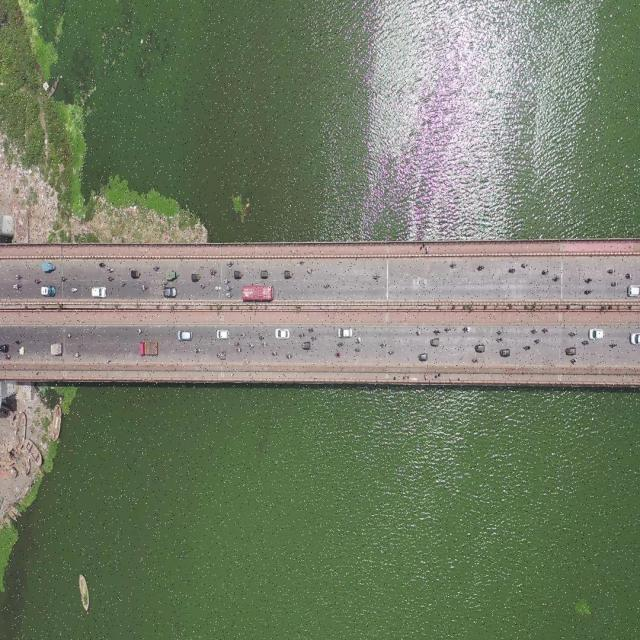3W: (49, 342, 63, 357), (131, 263, 142, 281), (498, 345, 512, 359), (190, 268, 202, 284), (232, 265, 244, 281), (259, 267, 272, 281), (564, 345, 577, 358), (281, 266, 293, 280), (474, 341, 486, 354), (429, 336, 441, 348), (417, 351, 430, 362), (302, 337, 311, 352), (216, 347, 226, 360), (19, 345, 25, 355)
Bus: (241, 284, 275, 301)
Cars: (274, 322, 290, 342), (92, 283, 109, 301), (175, 326, 194, 342), (588, 322, 604, 340), (627, 328, 640, 348), (40, 287, 58, 301), (218, 325, 232, 343), (337, 327, 353, 342), (627, 284, 640, 298), (163, 287, 178, 297)
M2W: (384, 348, 398, 361), (378, 337, 388, 353), (605, 263, 617, 276), (14, 334, 25, 348), (623, 269, 635, 281), (137, 322, 147, 336), (372, 270, 381, 285), (541, 267, 550, 282), (96, 258, 107, 270), (567, 328, 579, 339), (119, 276, 128, 290), (520, 257, 529, 271), (72, 352, 84, 362), (568, 355, 580, 365), (609, 338, 618, 351), (413, 327, 423, 338), (332, 351, 342, 362), (335, 339, 346, 349), (65, 329, 74, 341), (353, 333, 362, 345), (463, 323, 472, 335), (449, 259, 458, 271), (507, 265, 516, 277), (523, 341, 532, 353), (535, 334, 543, 347), (12, 281, 22, 291), (540, 326, 550, 336), (33, 276, 44, 285), (209, 265, 218, 276), (494, 335, 505, 344), (583, 276, 594, 285), (106, 273, 116, 282), (552, 276, 562, 285), (495, 326, 504, 336), (353, 347, 364, 355), (582, 288, 593, 296), (162, 278, 169, 290), (444, 323, 451, 335), (59, 271, 68, 280), (199, 281, 208, 290), (260, 339, 269, 348), (581, 337, 590, 346), (611, 279, 620, 288), (105, 265, 115, 273), (323, 280, 331, 290), (475, 264, 485, 272), (530, 327, 538, 337), (472, 354, 479, 365), (226, 259, 234, 268), (235, 346, 244, 354), (271, 349, 279, 358), (297, 331, 306, 339), (141, 282, 148, 292), (225, 292, 235, 299), (151, 265, 160, 272), (215, 285, 222, 294), (194, 345, 201, 354), (307, 327, 316, 334), (310, 335, 319, 342), (306, 267, 313, 276), (433, 327, 440, 336), (3, 353, 12, 360), (224, 277, 231, 285), (226, 285, 234, 292), (287, 352, 294, 360), (299, 260, 307, 267), (15, 274, 24, 280), (249, 343, 256, 350), (258, 332, 265, 339), (233, 340, 240, 346), (240, 332, 247, 338), (71, 287, 78, 293)
Truck: (138, 339, 160, 358), (41, 260, 57, 274), (166, 268, 178, 282)
